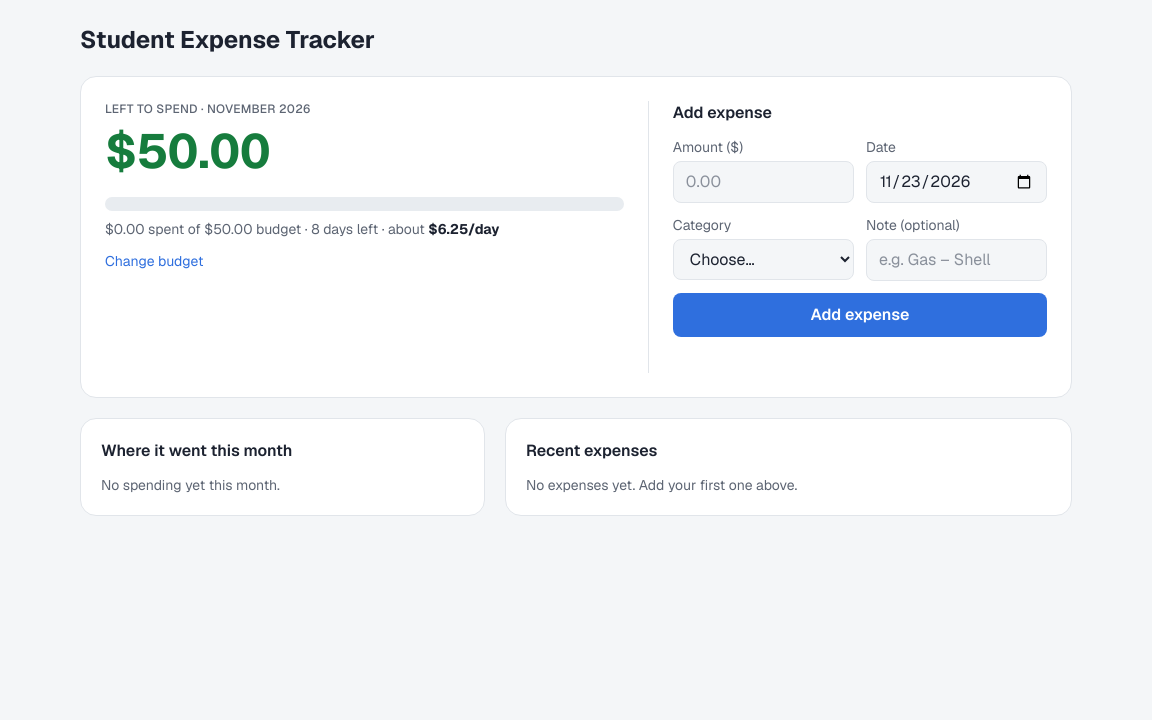
S2: monthly budget › S2-AC3: the budget turns red when nothing is left
Type "50" into the field labelled "Amount ($)" at (763, 182), box [673, 161, 854, 203]
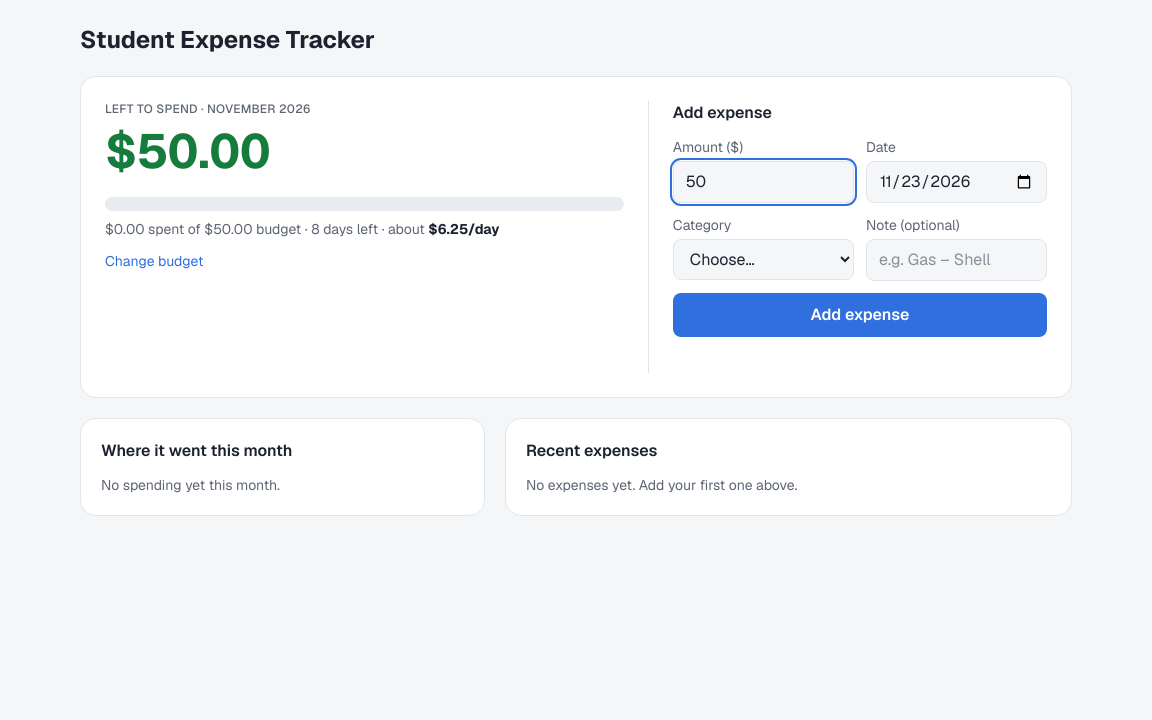
Select "School" in the dropdown labelled "Category" at (763, 260), box [673, 239, 854, 280]
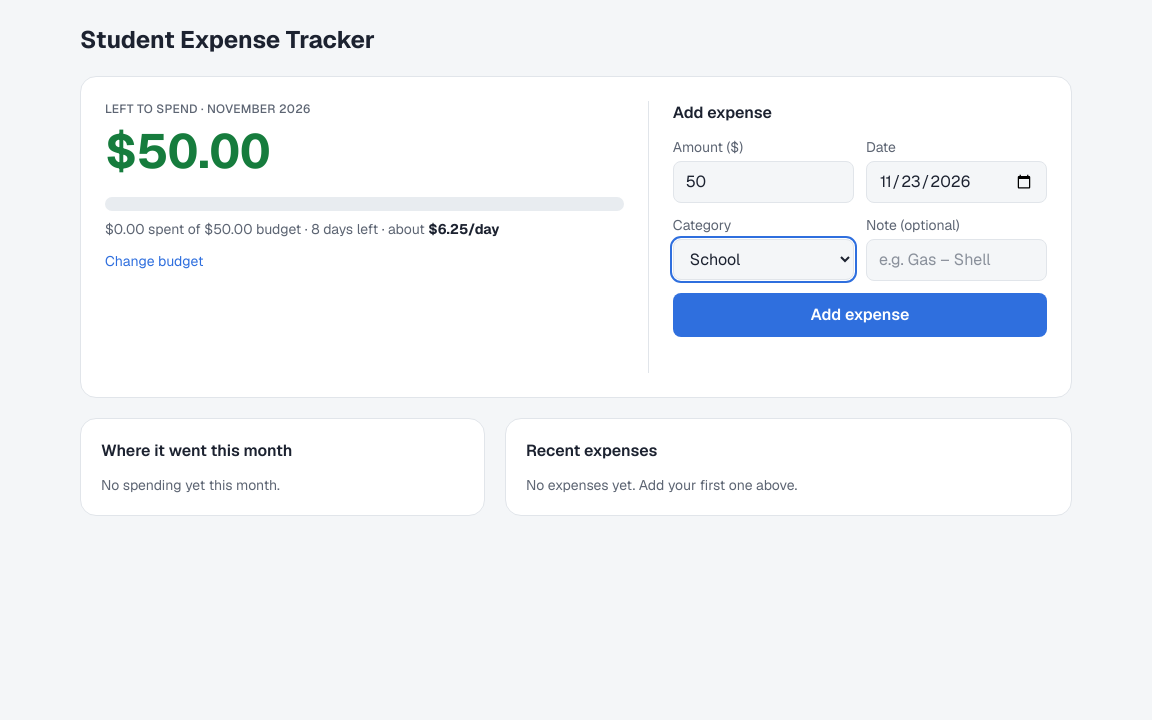
Click the button "Add expense" at (860, 315), box [673, 293, 1047, 337]
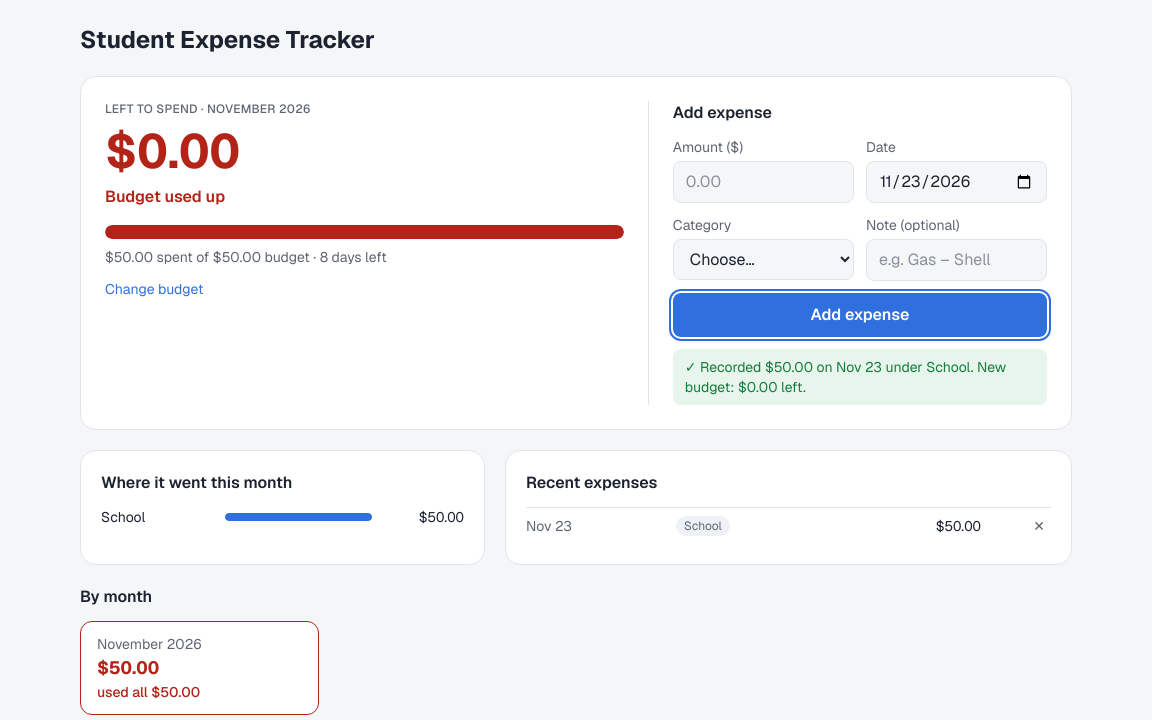
Expected: the element with test id "budget-summary" shows "Budget used up", [105, 186, 225, 207]
